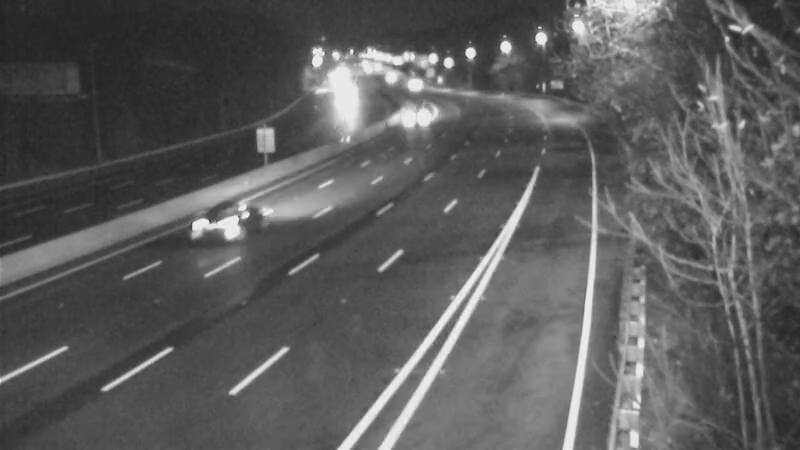vehicle: (184, 181, 264, 261), (386, 57, 436, 107), (384, 95, 434, 145), (320, 77, 370, 127)
